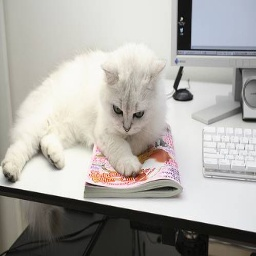cat: (3, 43, 174, 187)
